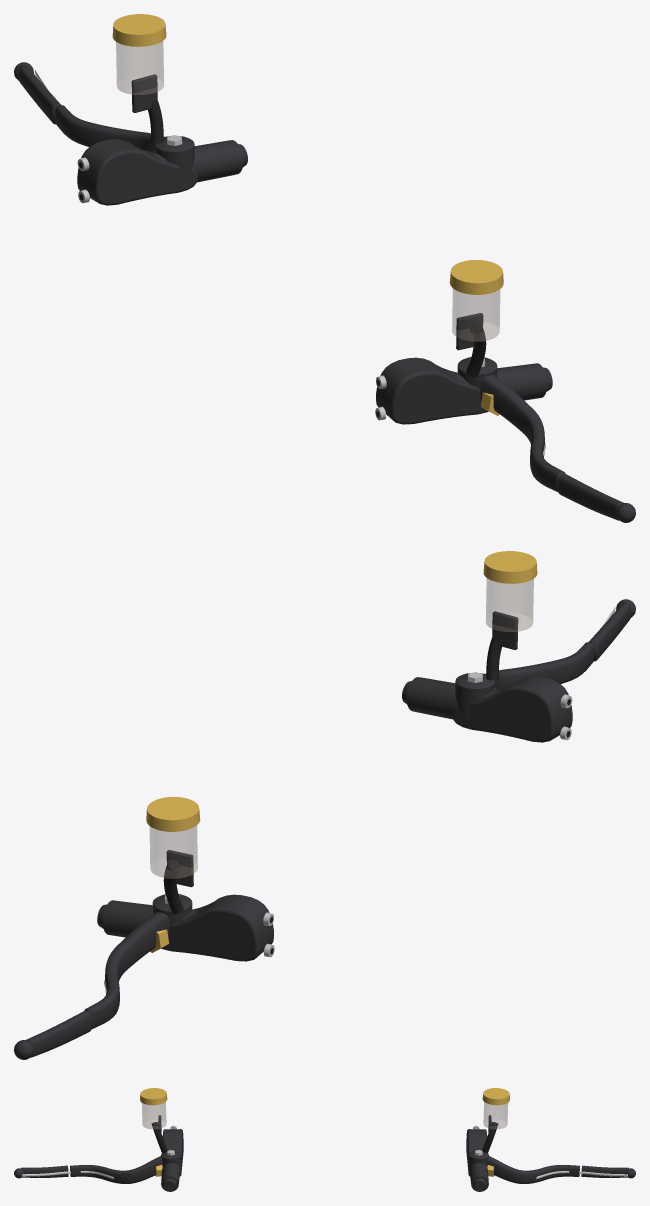
Rendered from folding.glb.
The picture shows the model from 3 angles, top to bottom: view 1: azimuth 30°, elevation 25°; view 2: azimuth 150°, elevation 25°; view 3: azimuth 270°, elevation 25°; orthographic projection. The views are drawn at different scales.
Visible parts, largest first — view 1: levers_folding; view 2: levers_folding; view 3: levers_folding.
Boxes of the visible parts, <box> form: levers_folding: <box>14,14,635,522</box>; levers_folding: <box>14,551,635,1059</box>; levers_folding: <box>14,1088,635,1191</box>.
Bounding box in the file's own units: 0.1206 × 0.1138 × 0.7708.
